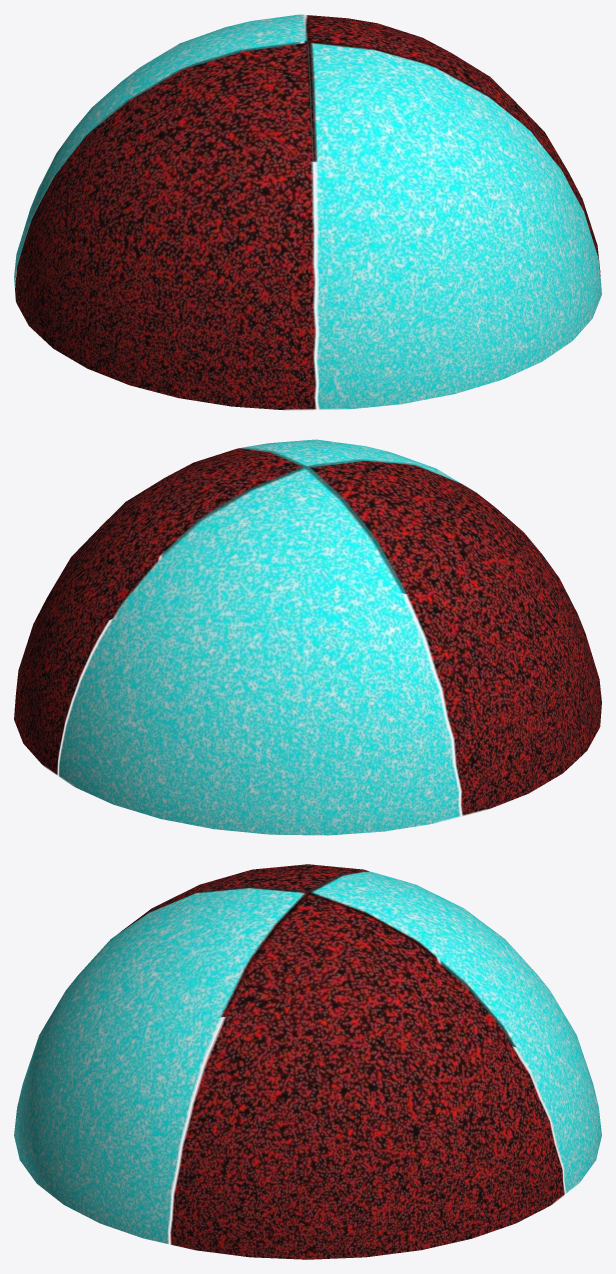
3 views of the same model, one above another, from view 1: azimuth 30°, elevation 25°; view 2: azimuth 150°, elevation 25°; view 3: azimuth 270°, elevation 25° (orthographic).
Parts seen in each view (by area): view 1: SM_HalfSphere_LOD0; view 2: SM_HalfSphere_LOD0; view 3: SM_HalfSphere_LOD0.
Part boxes in pixels (box(x1,y1,x2,y2)): SM_HalfSphere_LOD0: box(14, 14, 601, 410); SM_HalfSphere_LOD0: box(14, 439, 601, 835); SM_HalfSphere_LOD0: box(14, 864, 601, 1259).
Bounding box in the file's own units: 991 × 453 × 991.
1 material, 1 textured.
